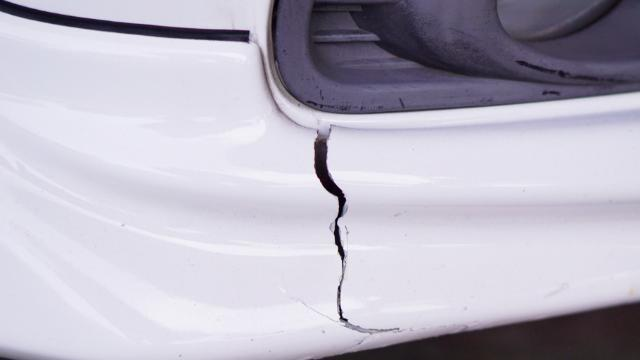Bumper: (303, 118, 418, 333)
